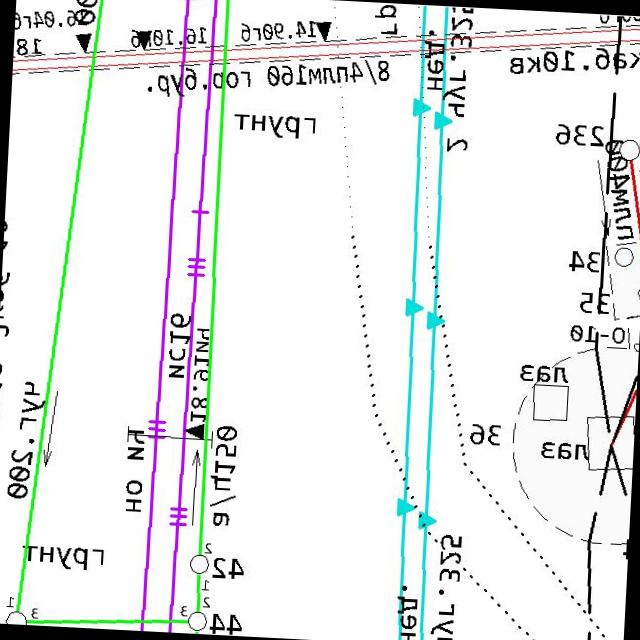mark: (73, 30, 94, 56), (314, 19, 333, 44), (134, 29, 153, 53), (182, 422, 206, 441)
well: (184, 608, 210, 634), (187, 551, 212, 577), (612, 244, 636, 270), (617, 136, 640, 163)
